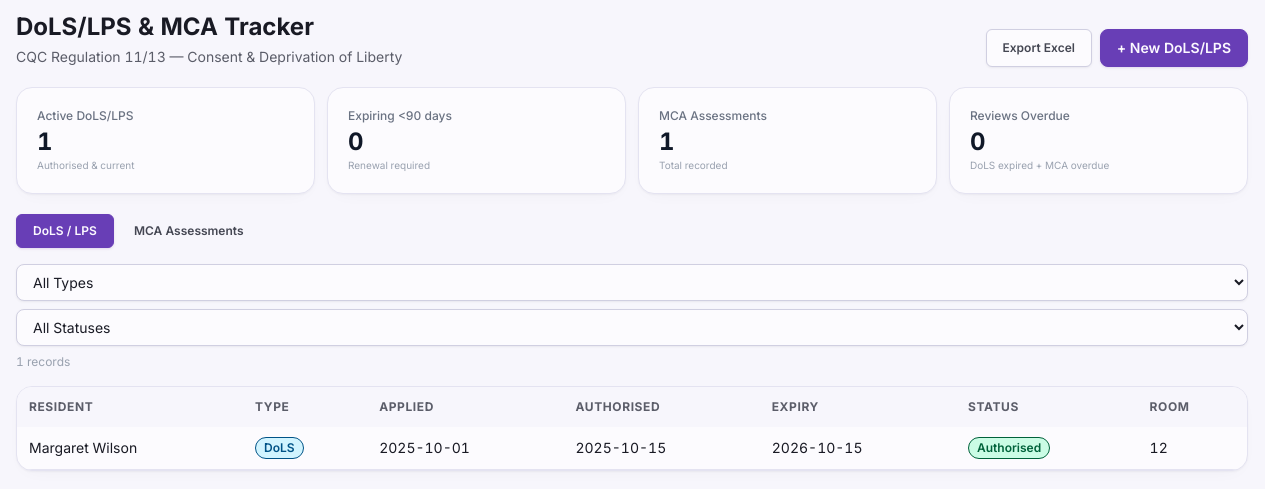
DolsTracker › switching to MCA view shows MCA assessments table
Click the button "MCA Assessments": (189,231) x1=118 y1=214 x2=260 y2=248
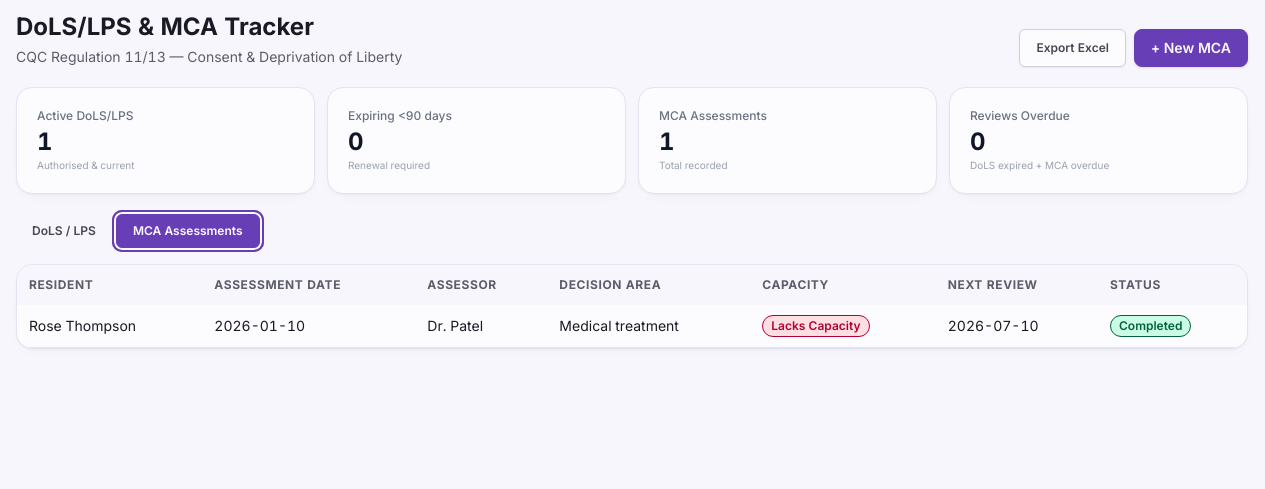
Result: the text "Rose Thompson" is shown at x1=17 y1=305 x2=202 y2=348
Result: the text "Dr. Patel" is shown at x1=415 y1=305 x2=547 y2=348
Result: the text "Medical treatment" is shown at x1=547 y1=305 x2=750 y2=348
